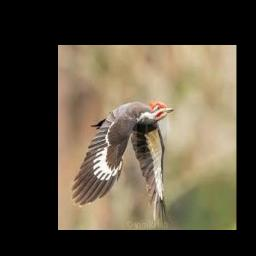Woodpecker: (71, 101, 174, 221)
